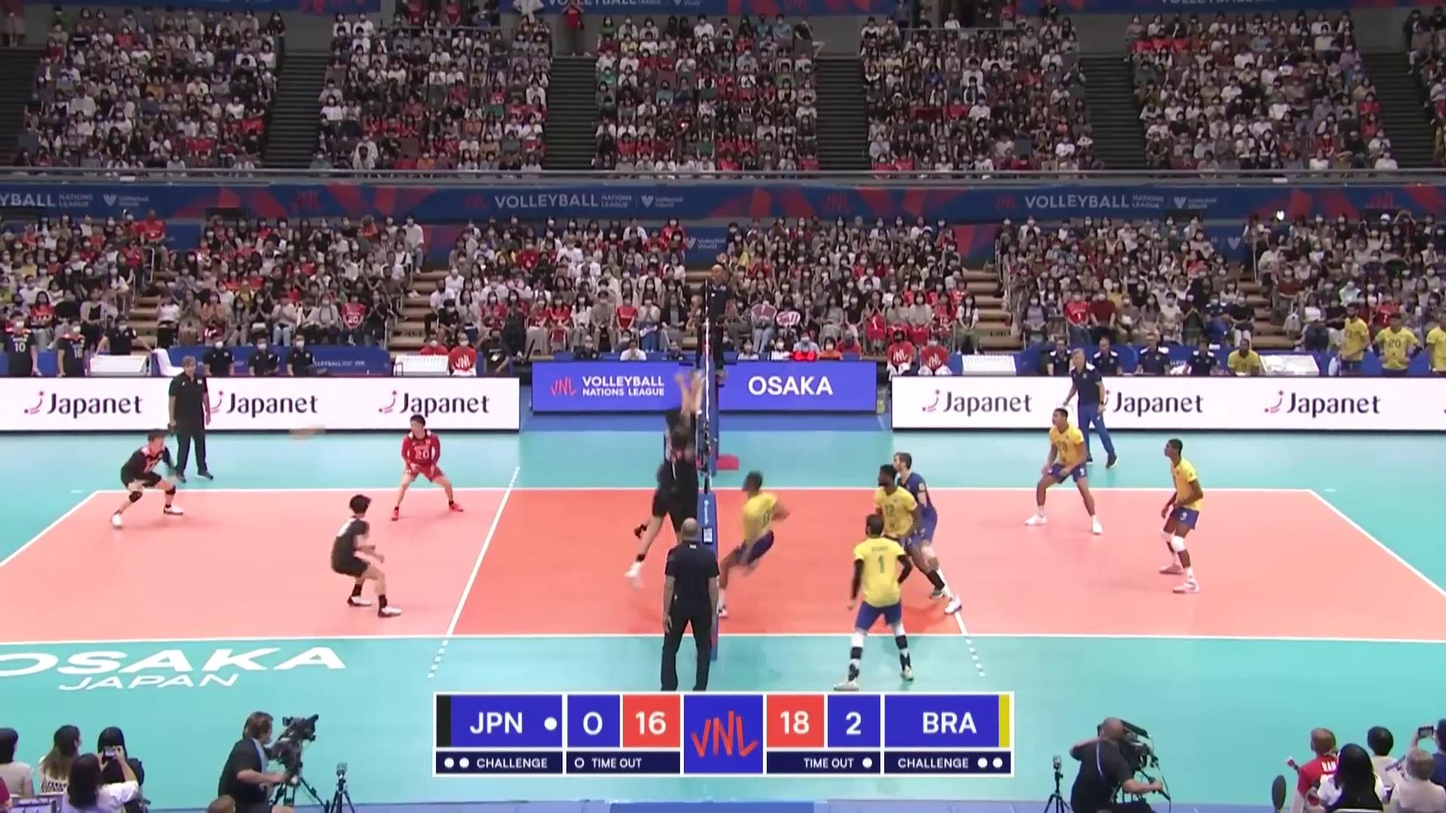player: (862, 467, 962, 613), (836, 514, 916, 688), (625, 405, 699, 589), (716, 472, 789, 620), (1023, 407, 1103, 534), (326, 493, 400, 616), (885, 452, 945, 598), (1155, 438, 1205, 594), (108, 429, 184, 528), (391, 416, 463, 518), (667, 428, 703, 590)
refree: (658, 520, 719, 691), (690, 265, 731, 377)
